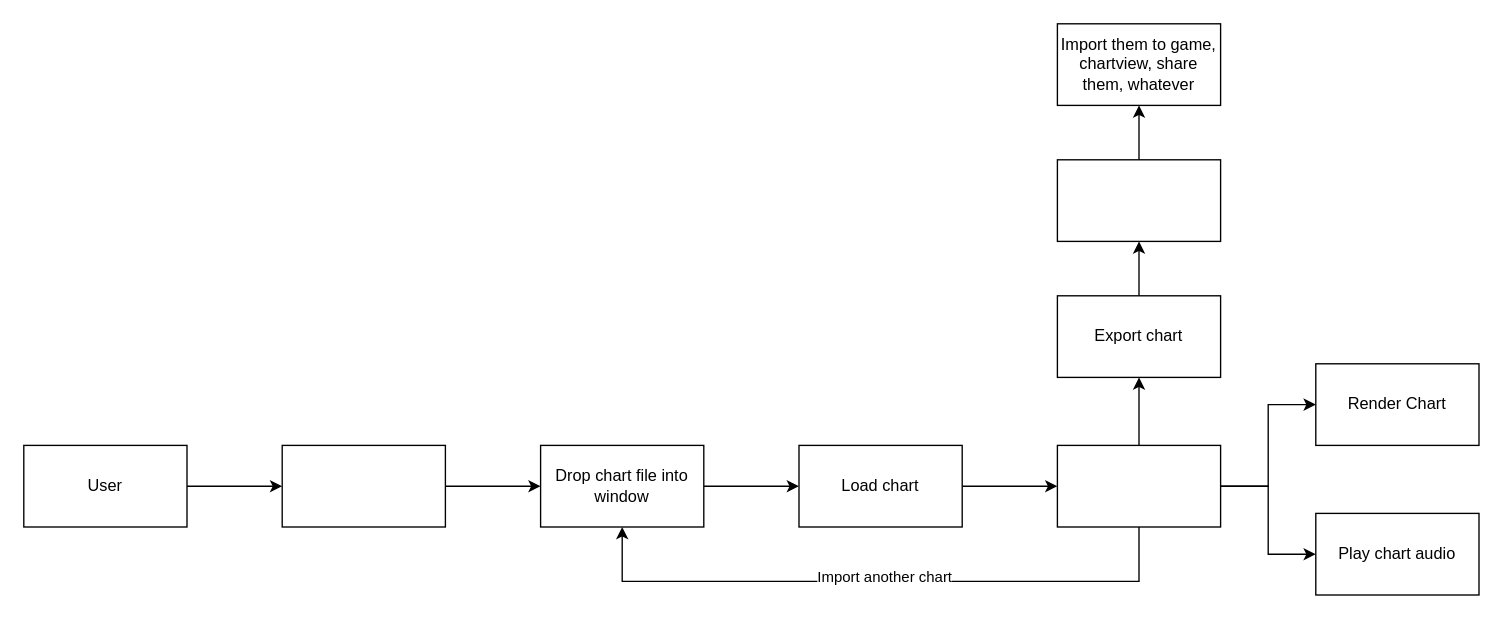
The diagram is 1503 pixels wide and 619 high, and some of its shapes have lost their labels. The box of each missing label's shape, as (x1, y1, x2, y2) in pixels:
Chart view: (1056, 444, 1221, 527)
Get exported files: (1056, 158, 1221, 241)
Main screen: (281, 444, 445, 527)
